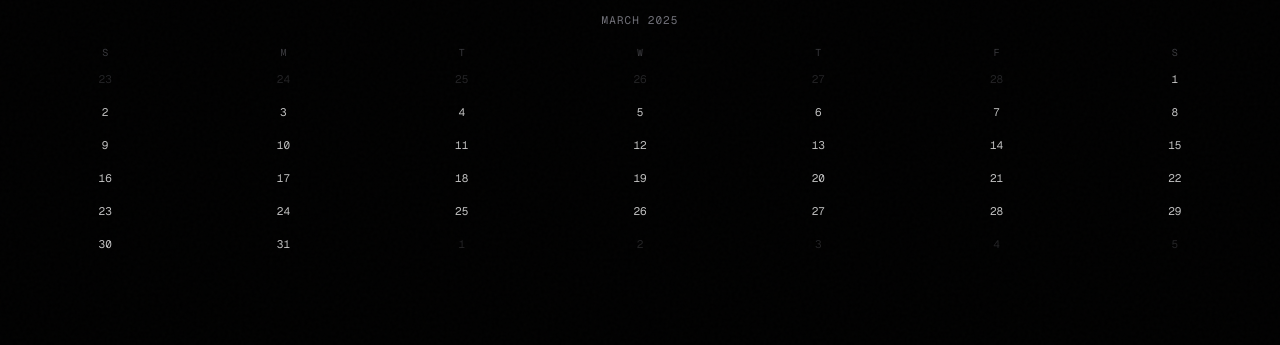
Test: MonthCalendar › shows No events when selecting an empty date
The image size is (1280, 345).
Step 1. Click the 1st button "1" → [1175, 84], box [1086,68,1264,100]
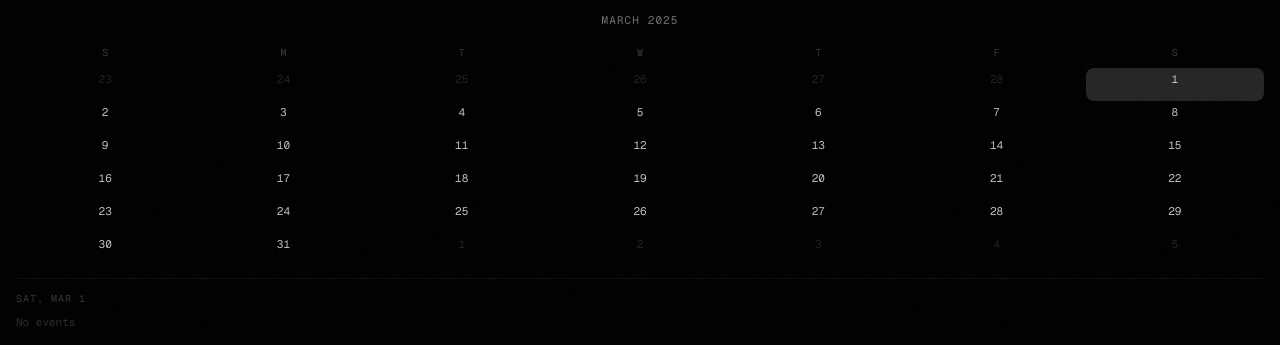
Check: the text "No events" is shown, box [16,314,75,328]
